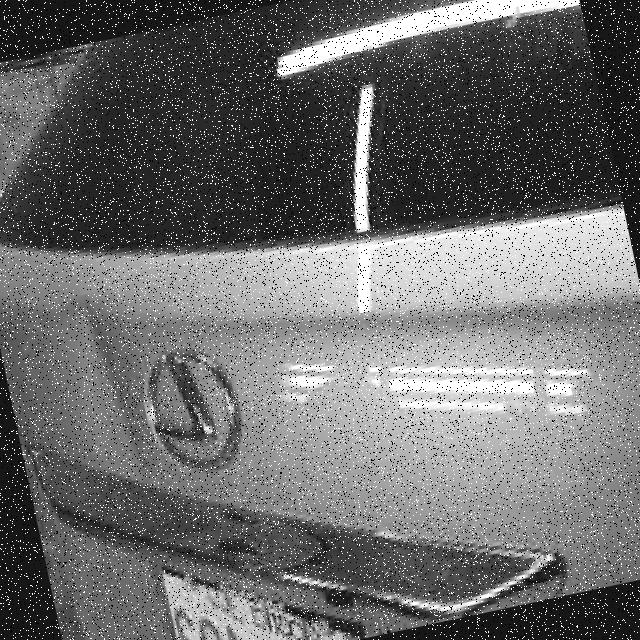Dent: (7, 276, 165, 506)
